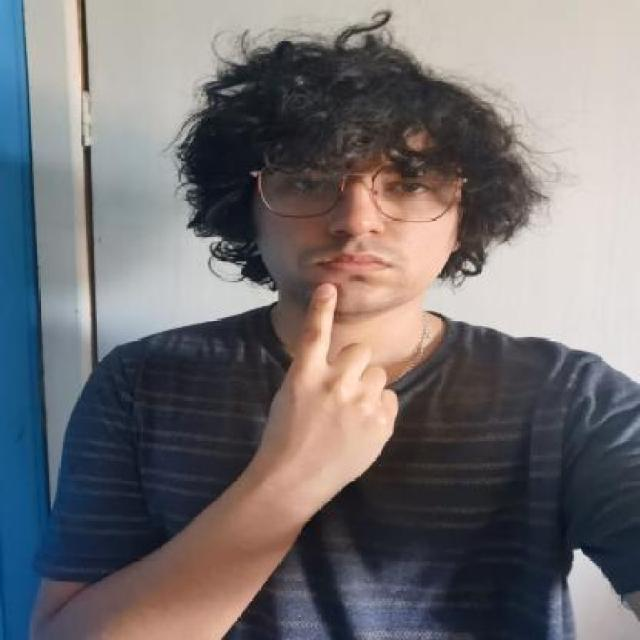T: (262, 279, 402, 493)
